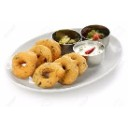vada: (13, 51, 36, 80), (34, 64, 61, 88), (56, 58, 78, 85), (35, 40, 60, 59), (29, 44, 51, 63)
